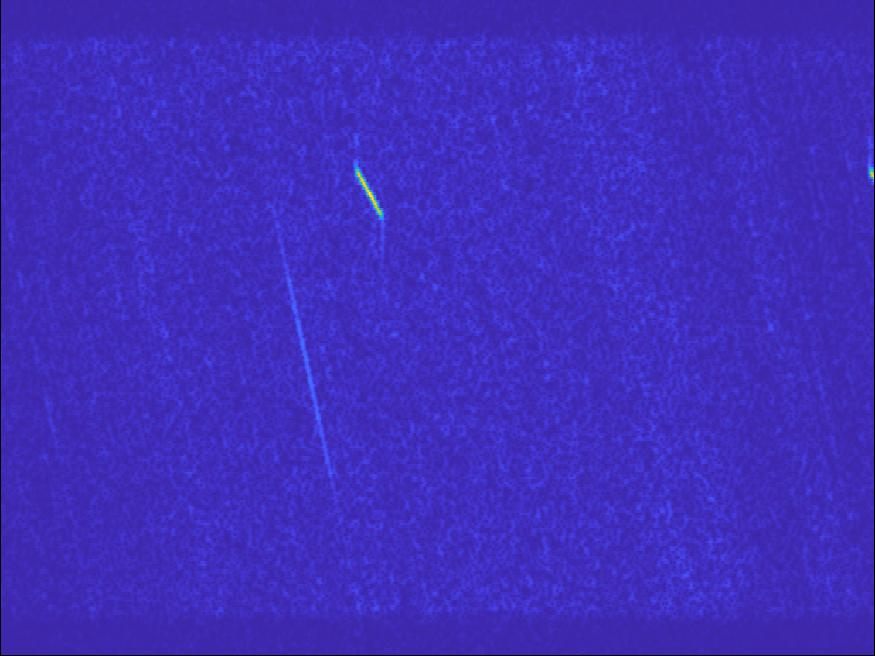Interference: (68, 530, 268, 656), (97, 1, 258, 102), (544, 165, 655, 213), (44, 233, 147, 282), (763, 298, 846, 354)
